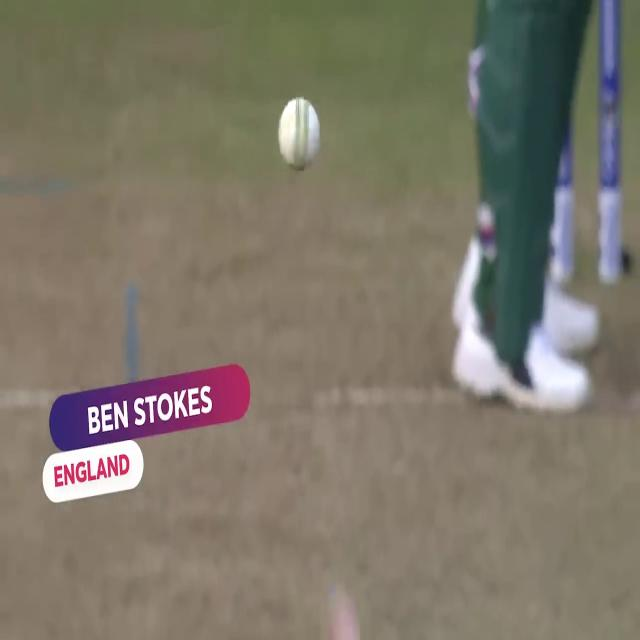ball: (275, 86, 322, 174)
